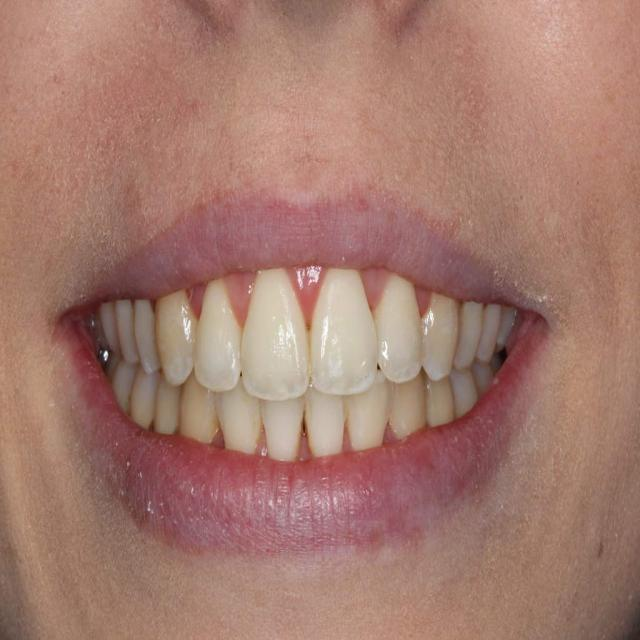tooth: (244, 269, 312, 407), (310, 269, 378, 393), (374, 277, 426, 385), (194, 282, 243, 390), (157, 299, 201, 384), (304, 390, 354, 464), (261, 399, 308, 464), (344, 392, 391, 452), (423, 297, 456, 381), (219, 392, 262, 456), (453, 298, 485, 369), (118, 294, 148, 368), (134, 301, 164, 370), (181, 385, 220, 437), (92, 284, 117, 363), (474, 304, 501, 368), (389, 389, 427, 434), (132, 367, 156, 435), (421, 380, 458, 424), (110, 361, 132, 418), (155, 388, 179, 434), (454, 374, 481, 409), (500, 309, 510, 353), (479, 370, 496, 387)
